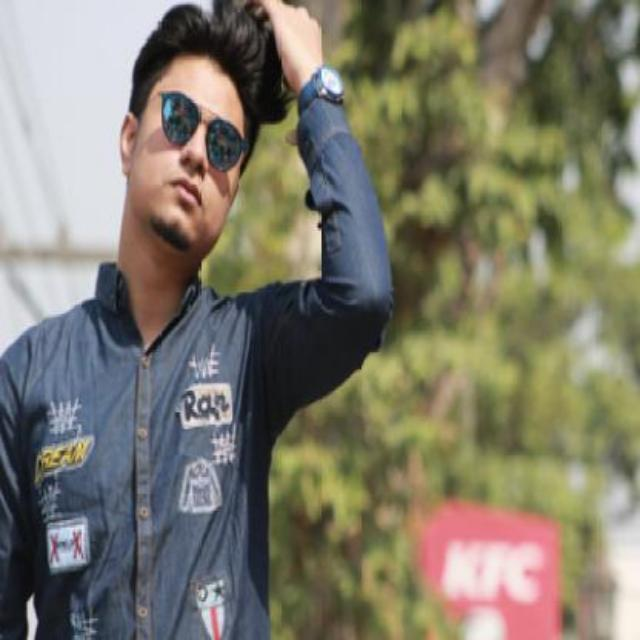sunglasses: (134, 86, 250, 170)
